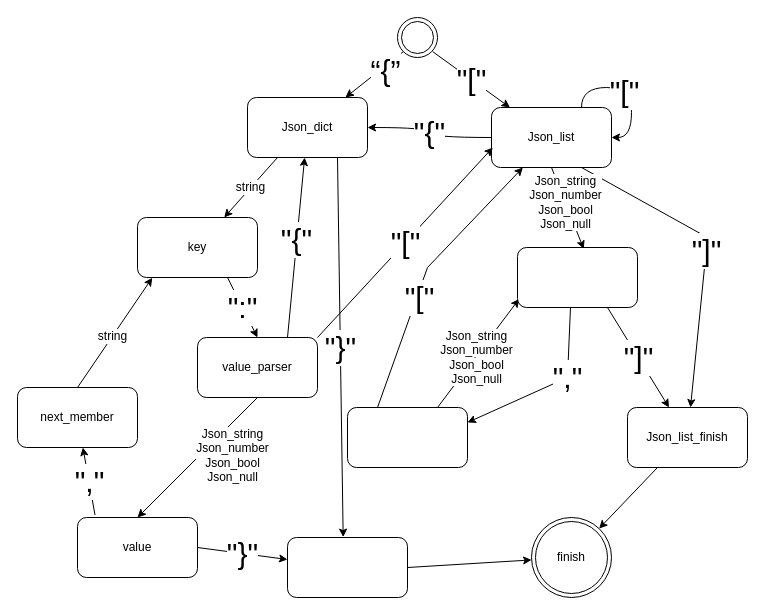
The diagram is 765 pixels wide and 615 high, and some of its shapes have lost their labels. Each missing label, with the centre of its shape:
"element" goes at pixel 577 277.
"Json_dict_finish" goes at pixel 347 567.
"next_element" goes at pixel 407 437.
"start" goes at pixel 417 37.
